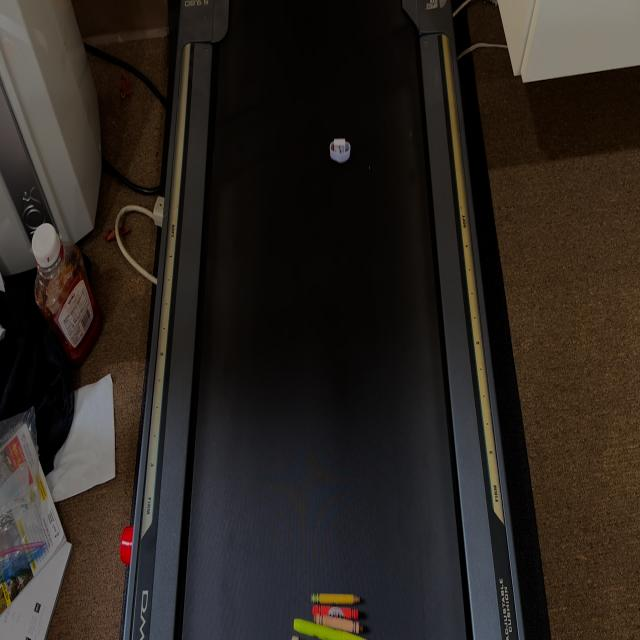Recycle: (328, 136, 351, 165)
Trash: (291, 591, 367, 640)
